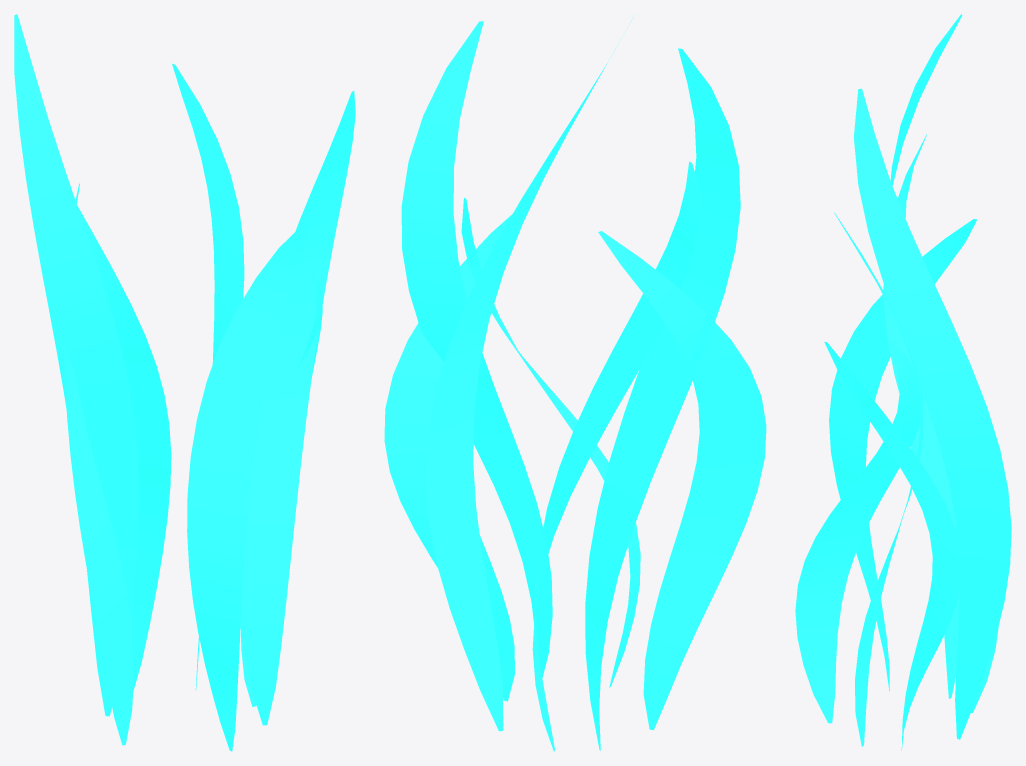
Rendered from SM_RibbonKelp.fbx.
3 renders of one model, left to right at view 1: azimuth 30°, elevation 25°; view 2: azimuth 150°, elevation 25°; view 3: azimuth 270°, elevation 25°, orthographic. The views are drawn at different scales.
Parts seen in each view (by area): view 1: SM_RibbonKelp.001; view 2: SM_RibbonKelp.001; view 3: SM_RibbonKelp.001.
Part boxes in pixels (<box>): SM_RibbonKelp.001: <box>14,14,355,751</box>; SM_RibbonKelp.001: <box>384,15,766,751</box>; SM_RibbonKelp.001: <box>795,14,1011,750</box>.
Bounding box in the file's own units: 117 × 75.34 × 249.
